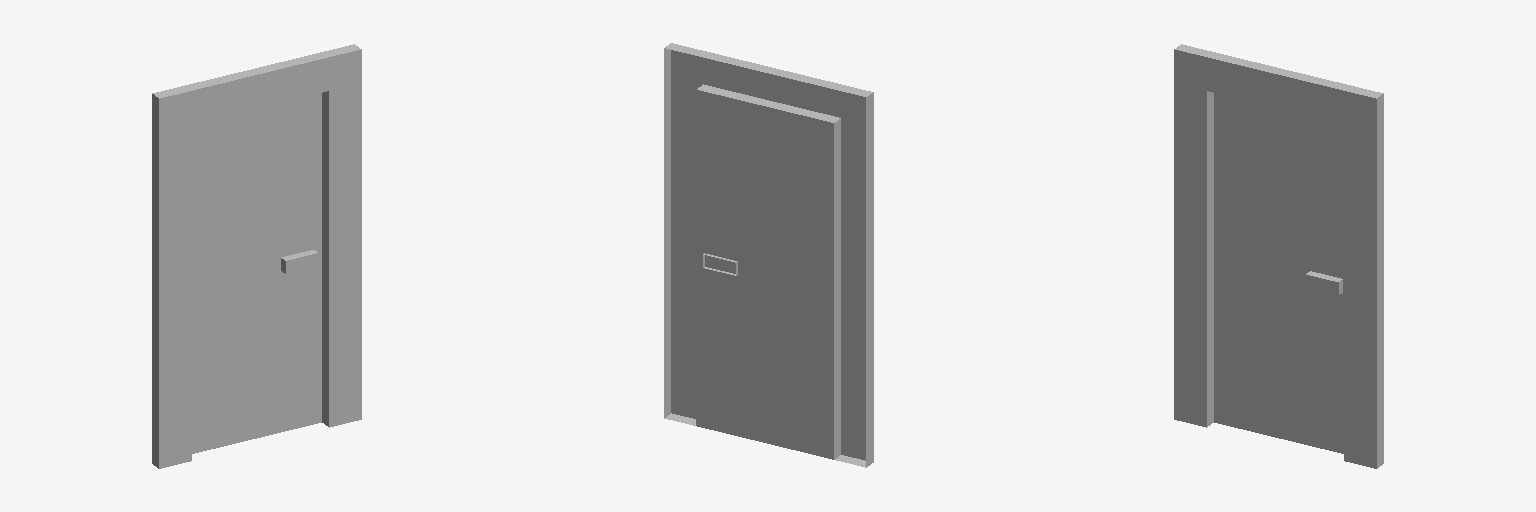
Rendered from Door.obj.
3 renders of one model, left to right at view 1: azimuth 30°, elevation 25°; view 2: azimuth 150°, elevation 25°; view 3: azimuth 330°, elevation 25°, orthographic.
Parts seen in each view (by area): view 1: Door; view 2: Door; view 3: Door.
Boxes of the visible parts, x1=… form: Door: x1=152, y1=44, x2=361, y2=468; Door: x1=664, y1=43, x2=873, y2=467; Door: x1=1174, y1=44, x2=1383, y2=468.
Size of the model in its own units: 4 by 7 by 0.3028.